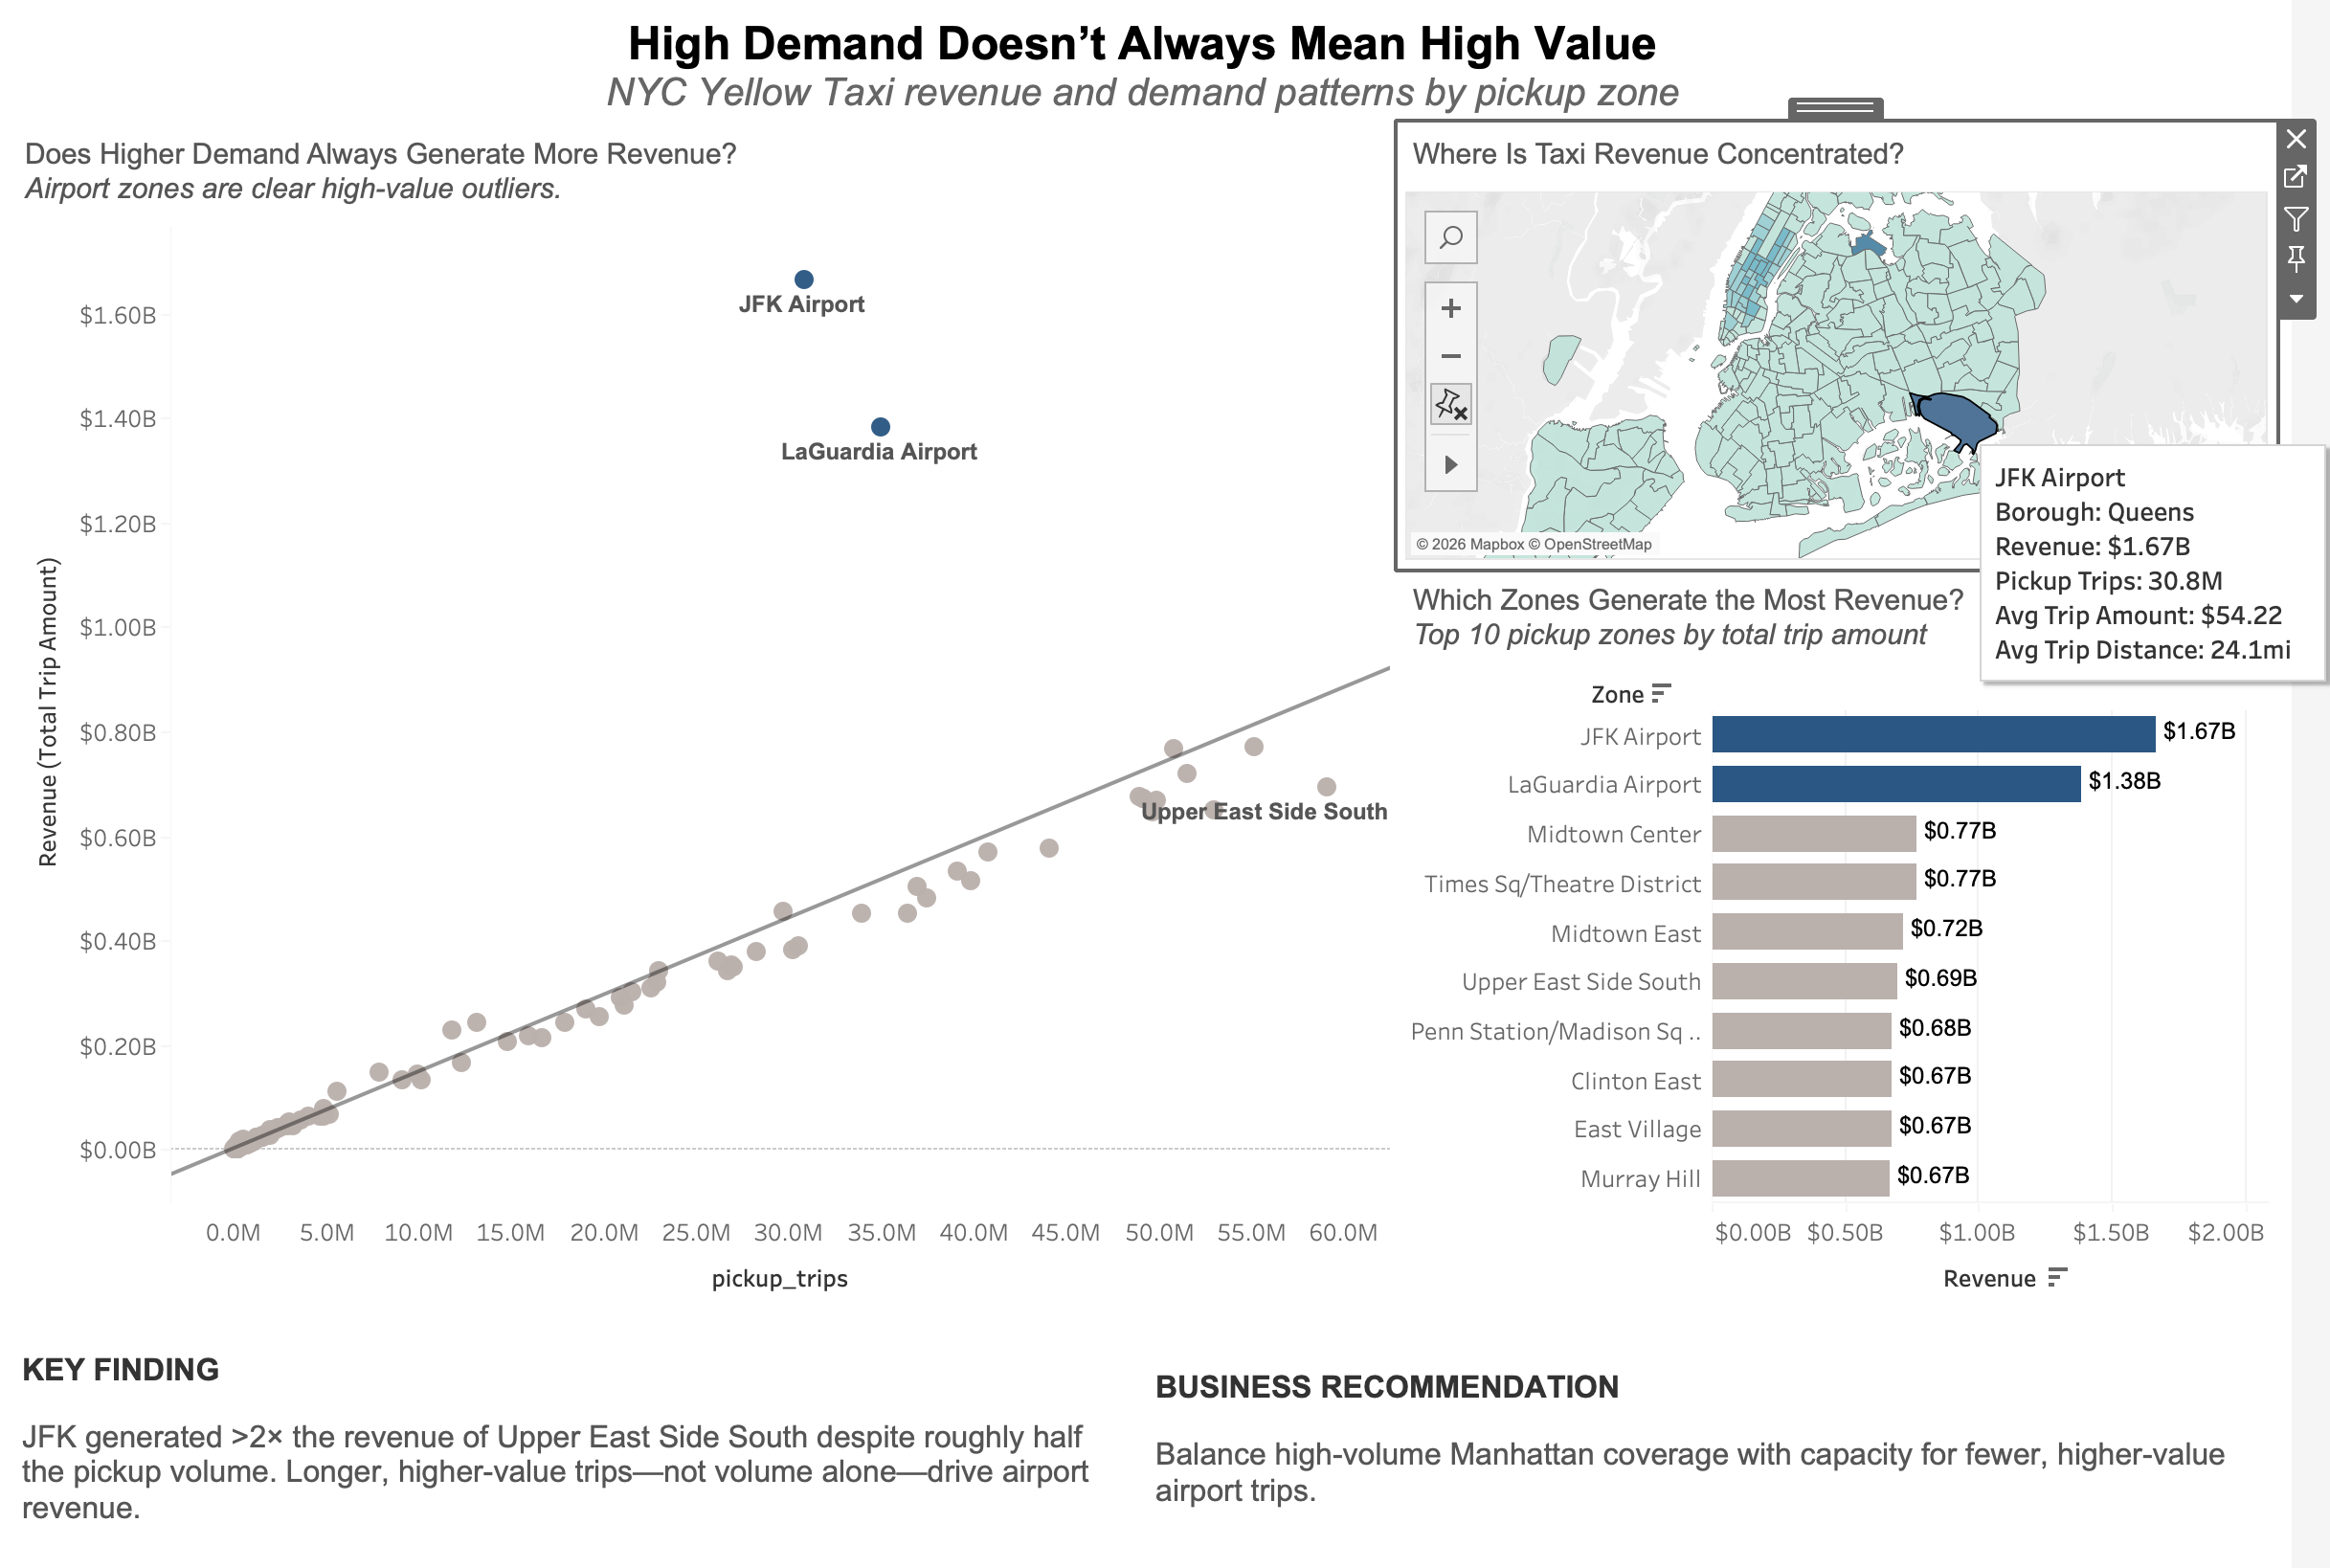

The page's visual inventory and layout, read from the dashboard file:
{"tool":"tableau","page":{"name":"Dashboard 1","canvas":[1000,1000],"units":"permille","ordinal":0},"visuals":[{"type":"text","box":[6.7,10,986.7,73.8]},{"type":"worksheet","title":"Demand vs Revenue","mark":"Circle","rows":["revenue"],"cols":["pickup_trips"],"box":[6.7,83.8,604.2,748.3]},{"type":"worksheet","title":"Revenue by Taxi Zone","mark":"Automatic","box":[610.8,83.8,382.5,291.3]},{"type":"legend","title":"Revenue by Taxi Zone","param":"[federated.0h65veg0lk4j0t18wsox91rkox0z].[sum:revenue:qk]","box":[887.5,282.3,100.8,71.2]},{"type":"worksheet","title":"Top Revenue Zones","mark":"Automatic","rows":["zone"],"cols":["revenue"],"box":[610.8,375.1,382.5,456.9]},{"type":"text","box":[6.7,832,493.3,158]},{"type":"text","box":[500,832,493.3,158]}]}

Visuals, with their boxes on the dashboard's canvas, which has no fixed pixel size, in thousandths of its width and height (x1, y1, x2, y2). These are canvas units, not pixel positions in the 2330x1568 screenshot, which may show the page scaled, cropped or inside an application window:
text: rect(7, 10, 993, 84)
"Demand vs Revenue" worksheet (Circle marks): rect(7, 84, 611, 832)
"Revenue by Taxi Zone" worksheet: rect(611, 84, 993, 375)
"Revenue by Taxi Zone" legend: rect(888, 282, 988, 354)
"Top Revenue Zones" worksheet: rect(611, 375, 993, 832)
text: rect(7, 832, 500, 990)
text: rect(500, 832, 993, 990)
